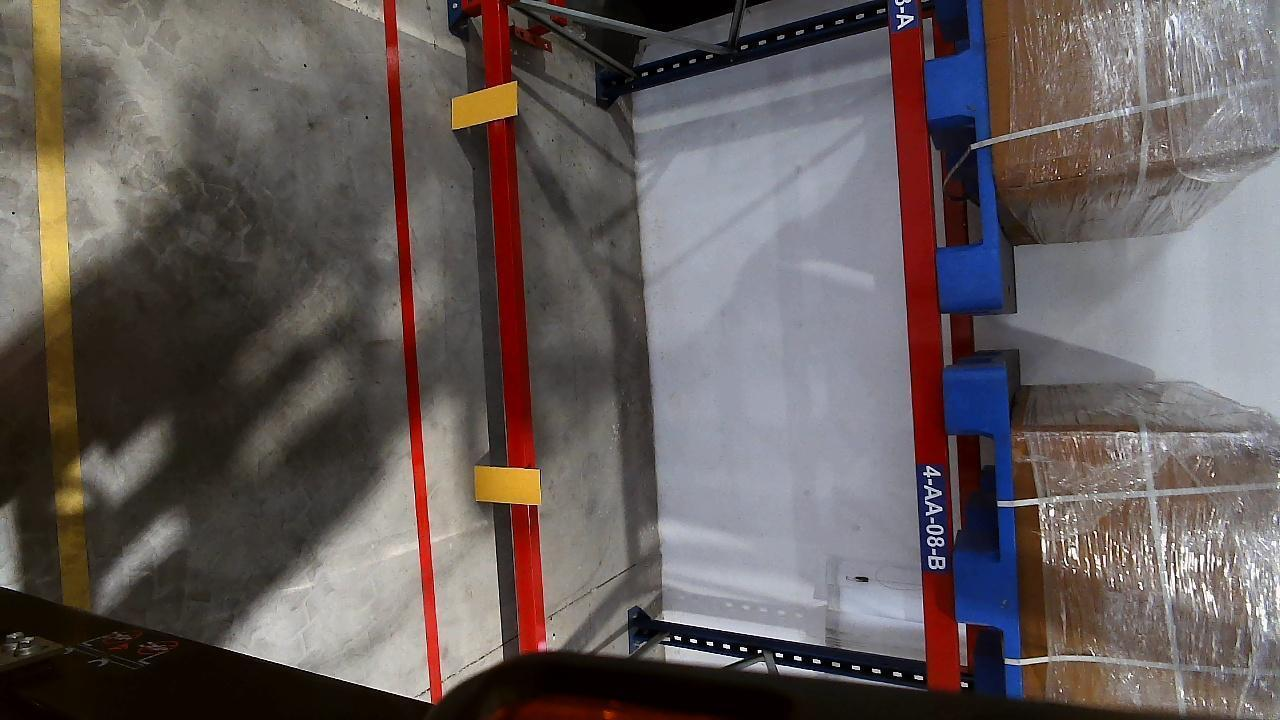red_line: (379, 0, 445, 705)
yellow_line: (27, 0, 85, 603)
